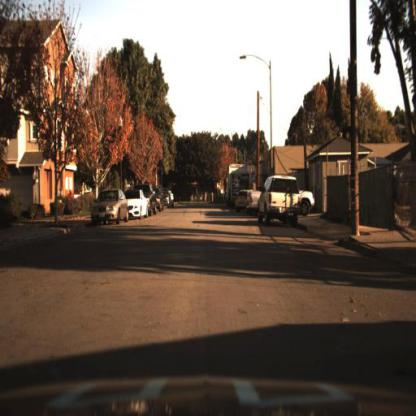car: (259, 170, 307, 231), (90, 187, 131, 230), (229, 161, 252, 204), (121, 189, 150, 222), (128, 189, 150, 223), (138, 182, 159, 216), (301, 189, 317, 217), (235, 190, 250, 216)
